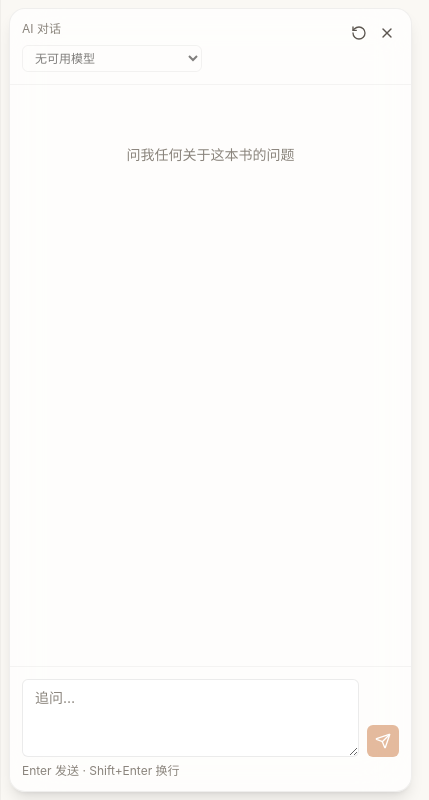
Test: AISidebar › treats empty successful responses as retryable failures outside later history
Type "会得到空回复的问题" into the text box with placeholder "追问…". click: [190, 718]
box: x1=22 y1=679 x2=359 y2=757
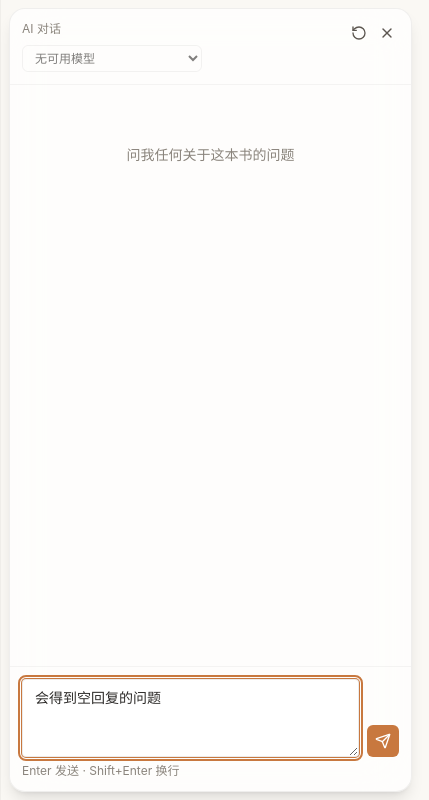
Click the button named "发送". click: [383, 741]
box: x1=367 y1=725 x2=399 y2=757
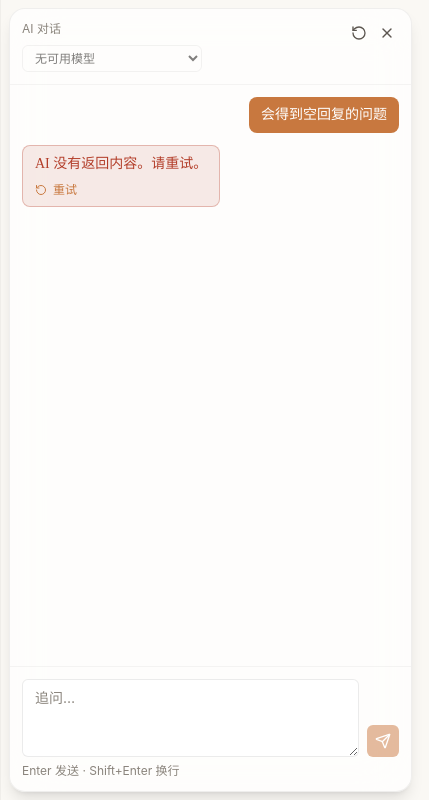
Check: the message shows "AI 没有返回内容。请重试。", box x1=35 y1=156 x2=207 y2=171
Check: the button "重试" is shown, box x1=35 y1=182 x2=77 y2=198
Type "空回复后的问题" into the text box with placeholder "追问…". click: [190, 718]
box: x1=22 y1=679 x2=359 y2=757
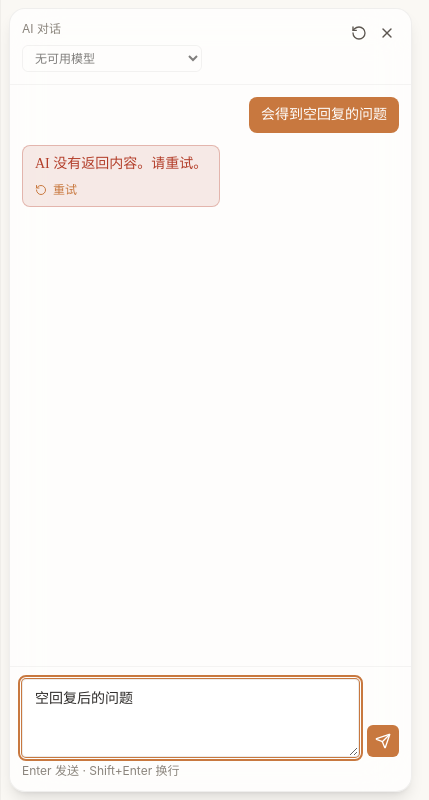
Click the button named "发送". click: [383, 741]
box: x1=367 y1=725 x2=399 y2=757
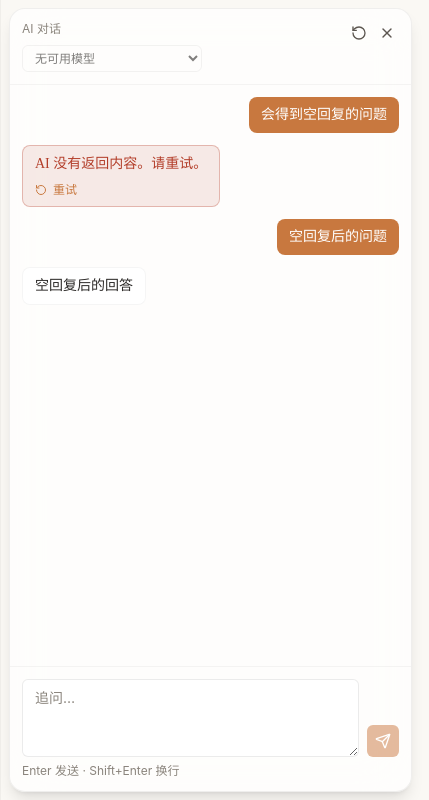
Check: the text "空回复后的回答" is shown, box x1=22 y1=267 x2=146 y2=305
